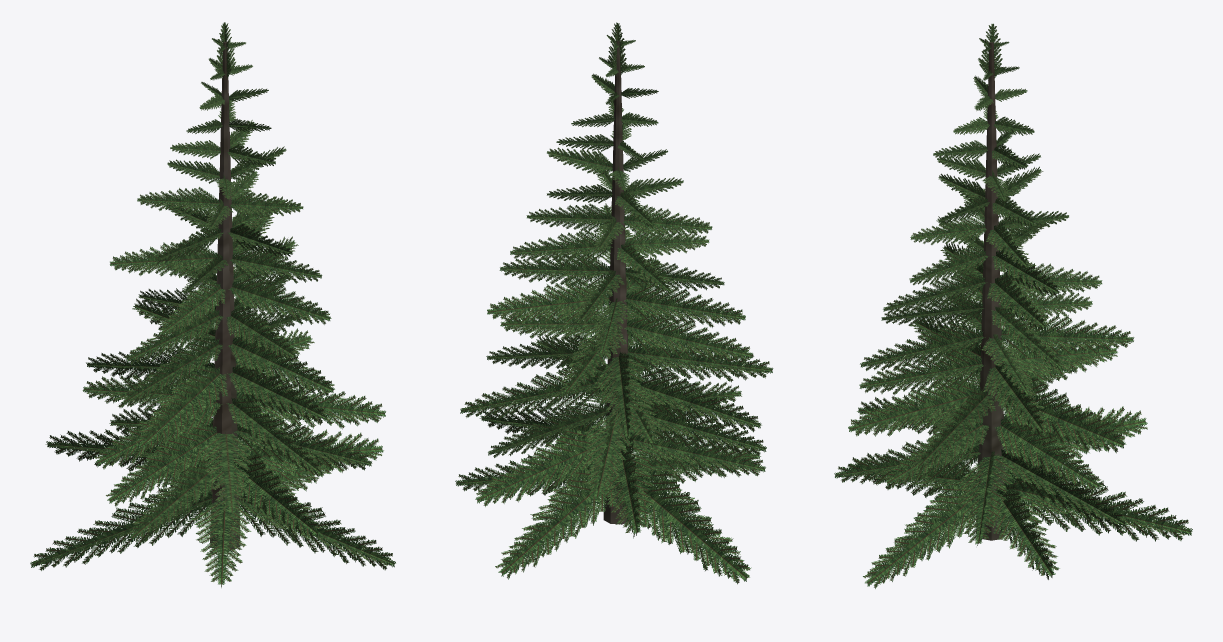
Rendered from fir_c.glb.
3 views of the same model, side by side, from view 1: azimuth 30°, elevation 25°; view 2: azimuth 150°, elevation 25°; view 3: azimuth 270°, elevation 25° (orthographic). The views are drawn at different scales.
Parts seen in each view (by area): view 1: needles, trunk; view 2: needles, trunk; view 3: needles, trunk.
Part boxes in pixels (x1,y1,x2,y2): needles: (30,22,395,587); trunk: (210,41,240,550); needles: (455,22,773,584); trunk: (603,40,630,524); needles: (834,23,1192,588); trunk: (976,42,1006,540).
Bounding box in the file's own units: 0.712 × 1.12 × 0.6992.
Materials: 2 (2 with a texture image).
